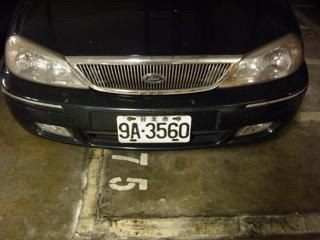plate: (115, 112, 192, 145)
